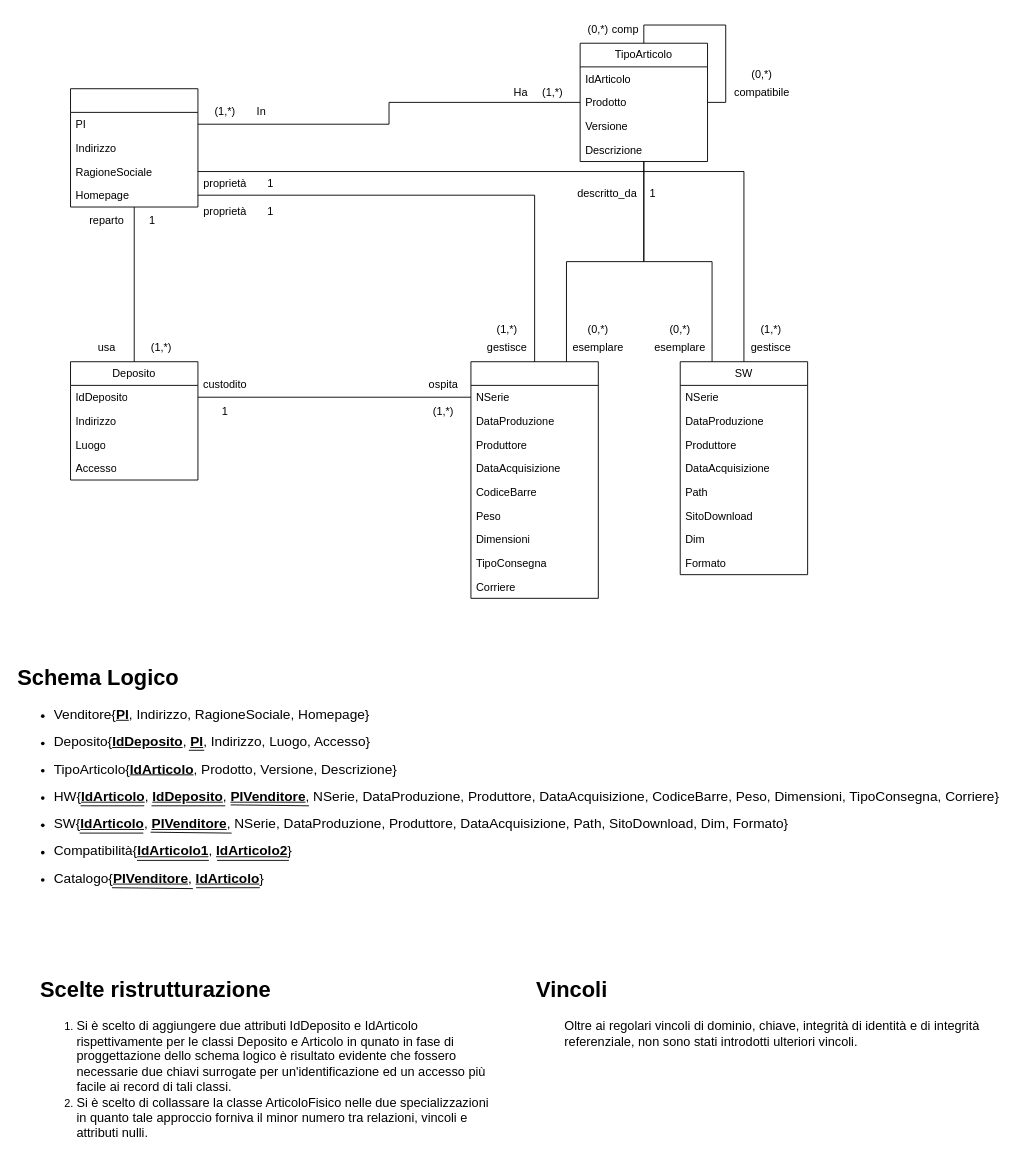
Some shapes in this 1032 by 1161 pixel diagram are drawn without their labels. The shapes that lost their labels are listed below. From the top down, each one's box as (x1, y1, x2, y2) in pixels, then its label:
(70, 88, 198, 207): Venditore
(470, 361, 598, 598): HW
